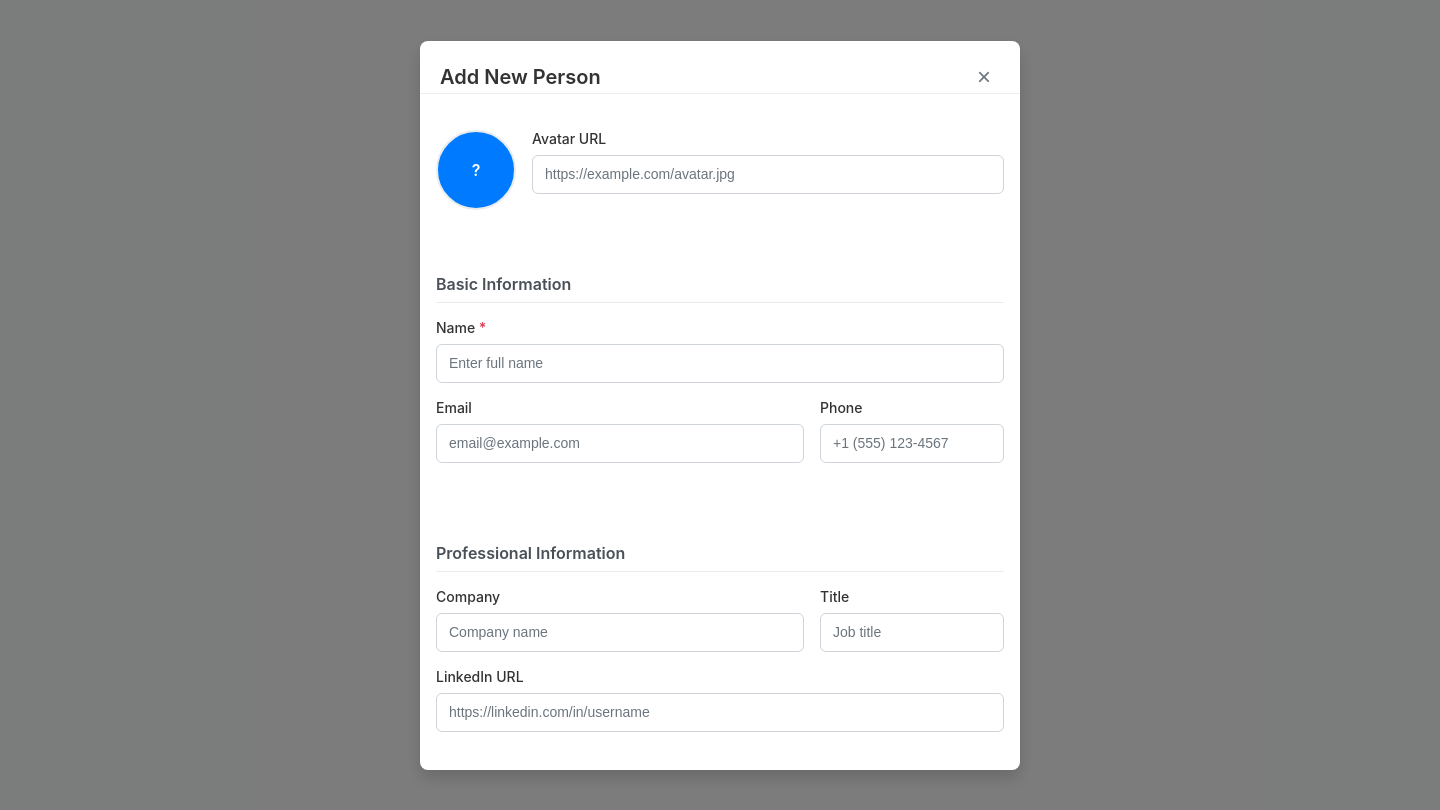
Test case: PersonForm › shows validation error for invalid phone
In the field with placeholder "Enter full name": x=720, y=363 [436,344,1004,382], type "Test User"
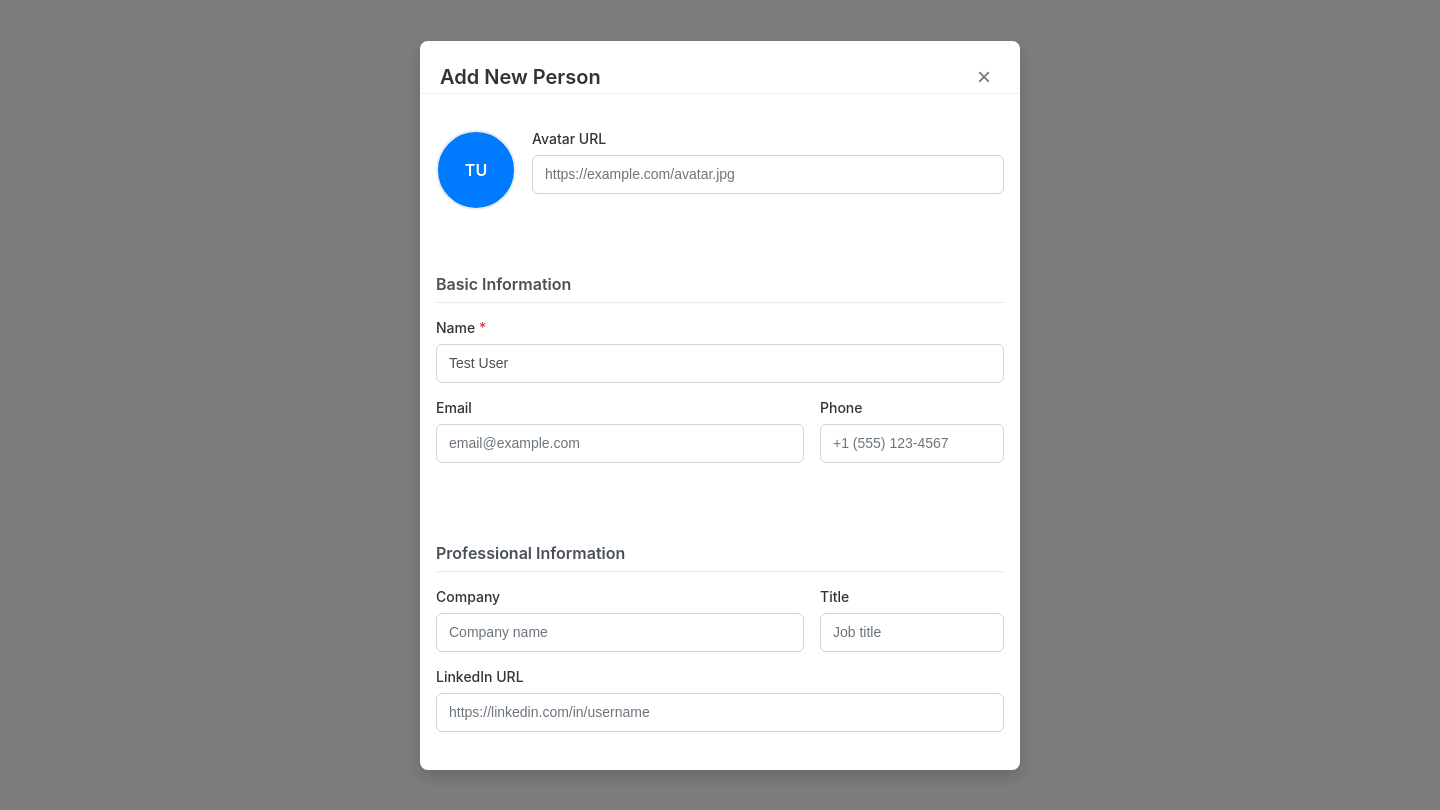
In the field with placeholder "+1 (555) 123-4567": x=912, y=443 [820,424,1004,462], type "invalid-phone"
(page scrolled)
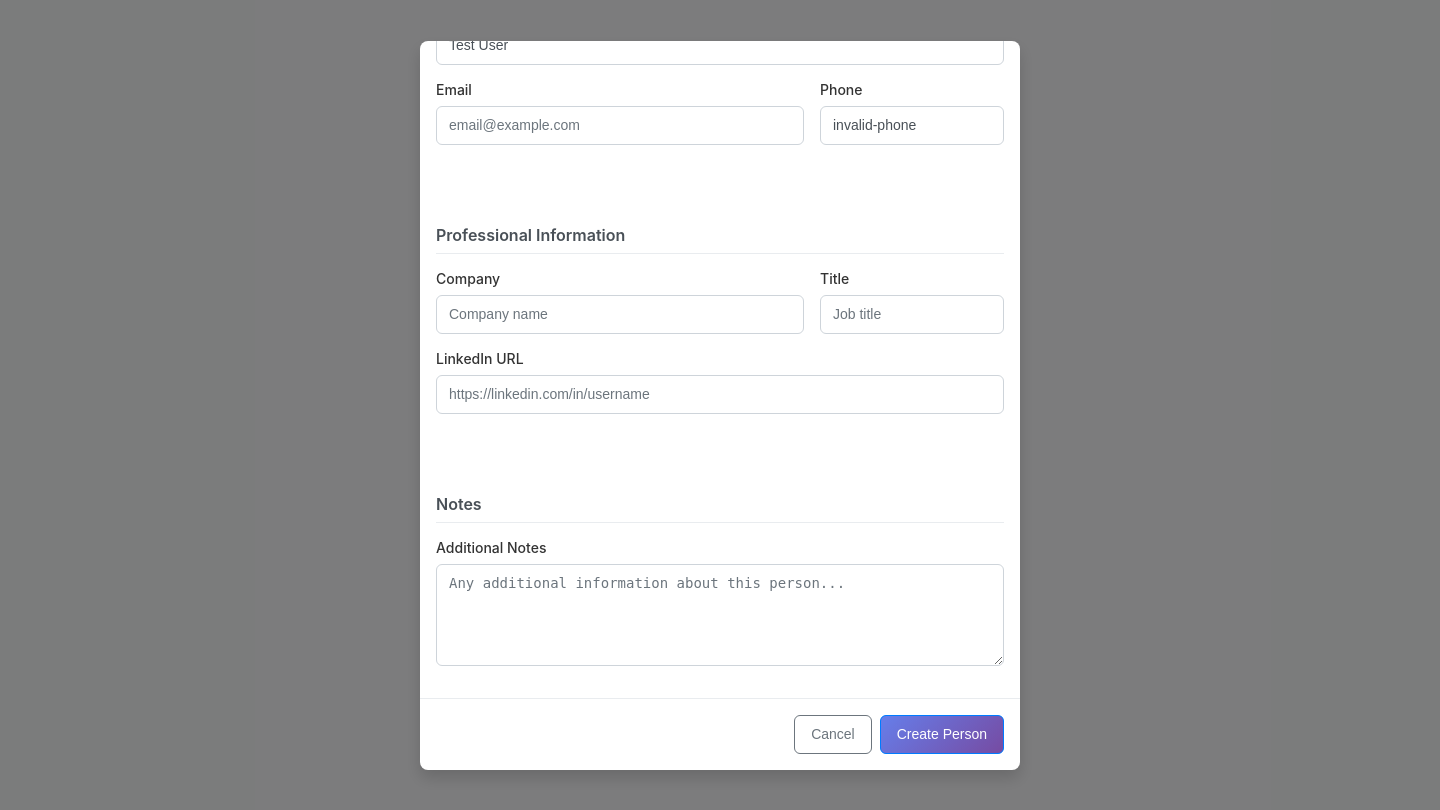
Click the button "Create Person": x=942, y=734 [880,714,1004,754]
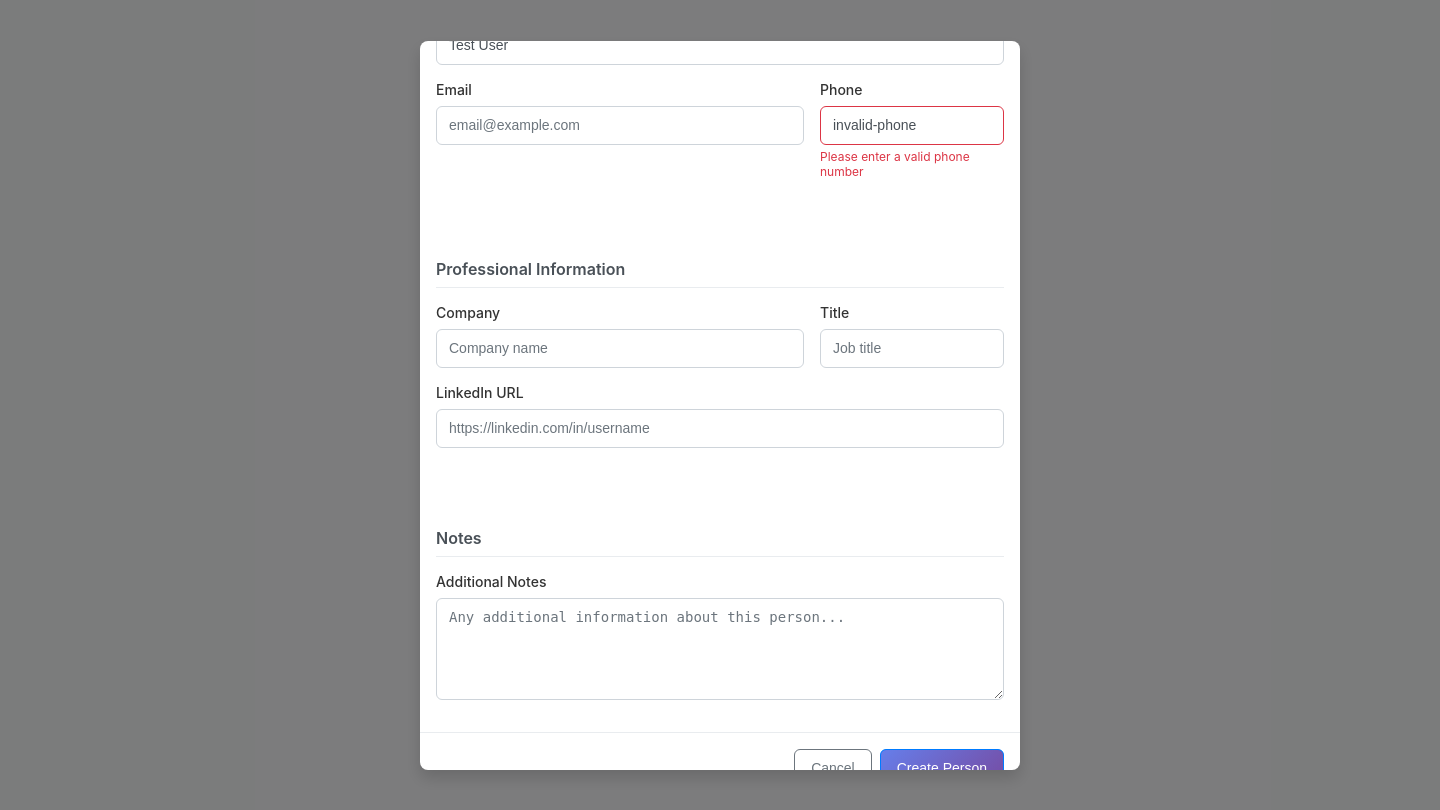
Check: the text "Please enter a valid phone number" is shown, box [820,148,970,178]
